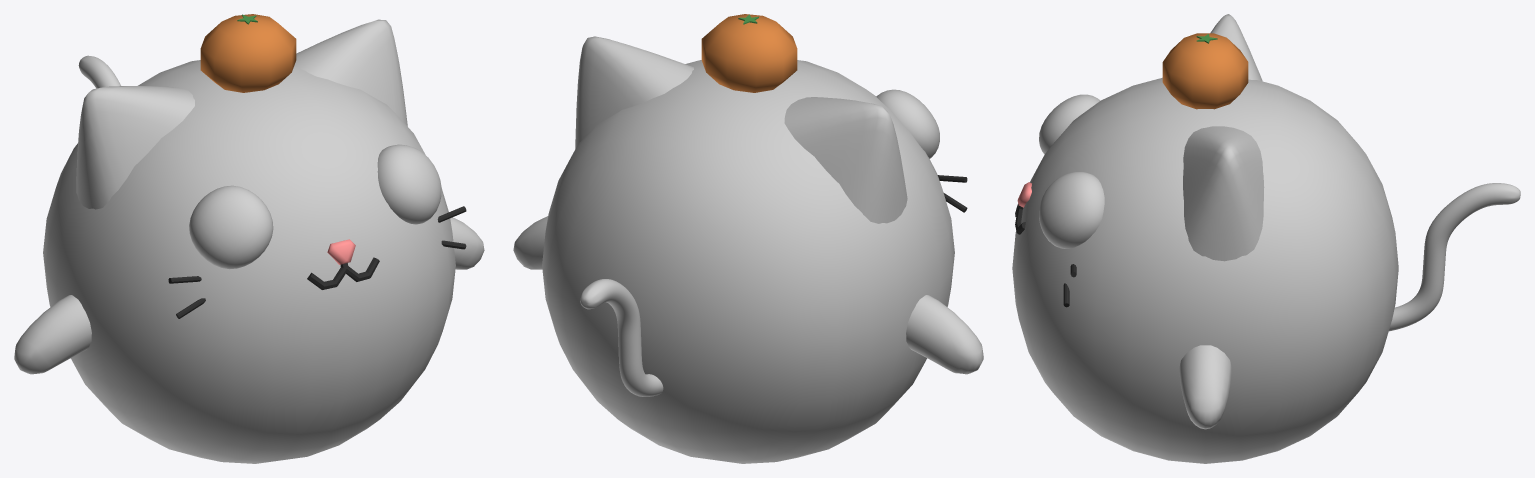
File: cat_skin.fbx
3 views of the same model, side by side, from view 1: azimuth 30°, elevation 25°; view 2: azimuth 150°, elevation 25°; view 3: azimuth 270°, elevation 25° (orthographic). The views are drawn at different scales.
Parts seen in each view (by area): view 1: Slime_Base, cat_skin, Slime_arm; view 2: Slime_Base, cat_skin, Slime_arm; view 3: Slime_Base, cat_skin, Slime_arm.
Part boxes in pixels (x1=…): Slime_Base: x1=43, y1=19, x2=455, y2=463; cat_skin: x1=168, y1=14, x2=466, y2=318; Slime_arm: x1=14, y1=217, x2=484, y2=374; Slime_Base: x1=542, y1=36, x2=954, y2=463; cat_skin: x1=701, y1=14, x2=967, y2=212; Slime_arm: x1=513, y1=216, x2=983, y2=374; Slime_Base: x1=1012, y1=14, x2=1520, y2=463; cat_skin: x1=1015, y1=33, x2=1248, y2=307; Slime_arm: x1=1179, y1=345, x2=1231, y2=429.
Size of the model in its own units: 90.45 by 89.35 by 78.49.
